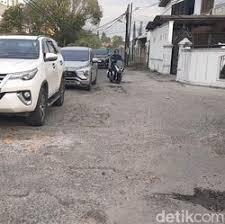Pothole: (8, 184, 121, 224), (52, 149, 128, 185), (177, 173, 225, 214), (66, 96, 116, 133), (100, 65, 129, 96)
